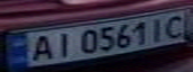0: (75, 26, 100, 55)
1: (130, 18, 151, 45)
5: (97, 24, 118, 52)
6: (115, 20, 136, 48)
A: (21, 33, 57, 63)
C: (160, 11, 190, 39)
I: (48, 30, 78, 59), (145, 16, 172, 43)
